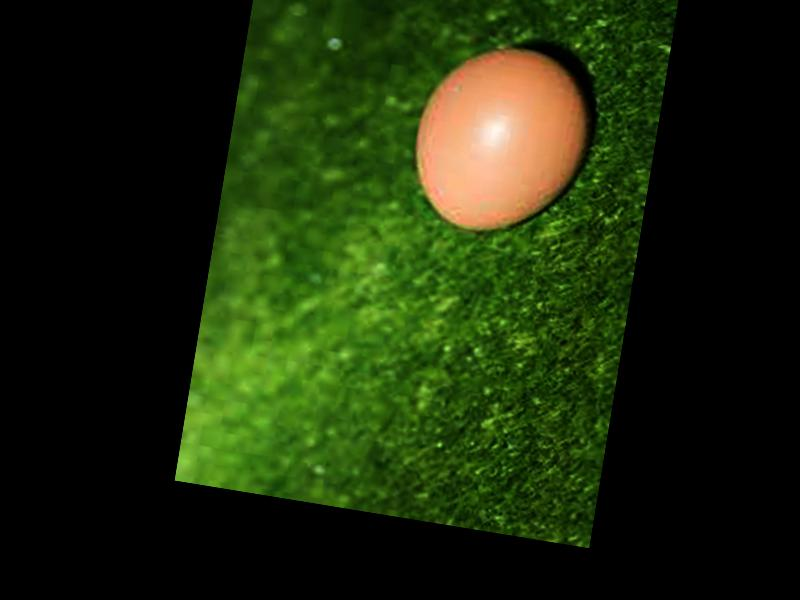Eggs: (405, 32, 604, 248)
